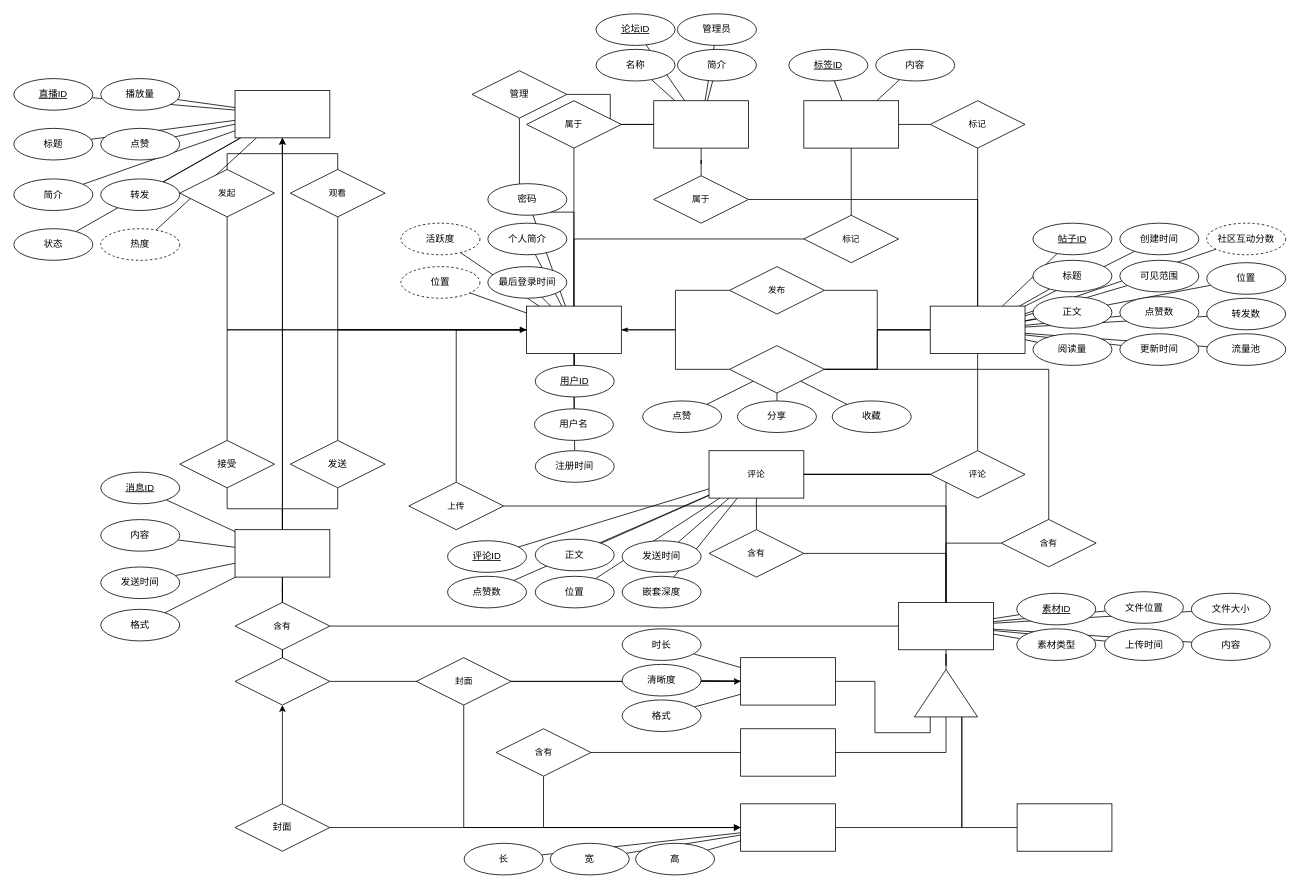
This 1300x889 diagram has some shape labels left out. The centre of each missing label's shape, as x and y in pixels:
"回放" belongs at pixel 282 681.
"图片" belongs at pixel 787 827.
"多媒体素材" belongs at pixel 945 626.
"帖子" belongs at pixel 977 329.
"广告" belongs at pixel 787 752.
"标签" belongs at pixel 851 124.
"浏览" belongs at pixel 776 369.
"消息" belongs at pixel 282 553.
"用户" belongs at pixel 573 329.
"直播" belongs at pixel 282 114.
"表情包" belongs at pixel 1064 827.
"视频" belongs at pixel 787 681.
"论坛" belongs at pixel 701 124.
